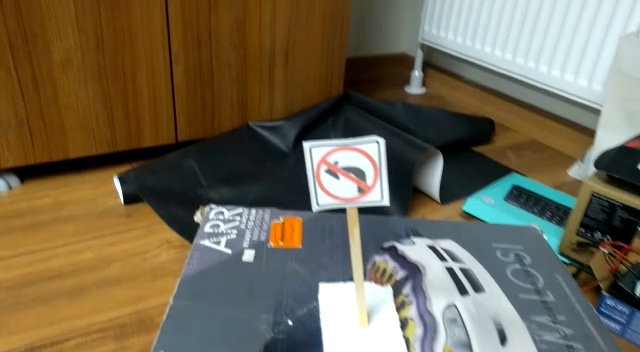sola_donulmez: (312, 142, 382, 210)
